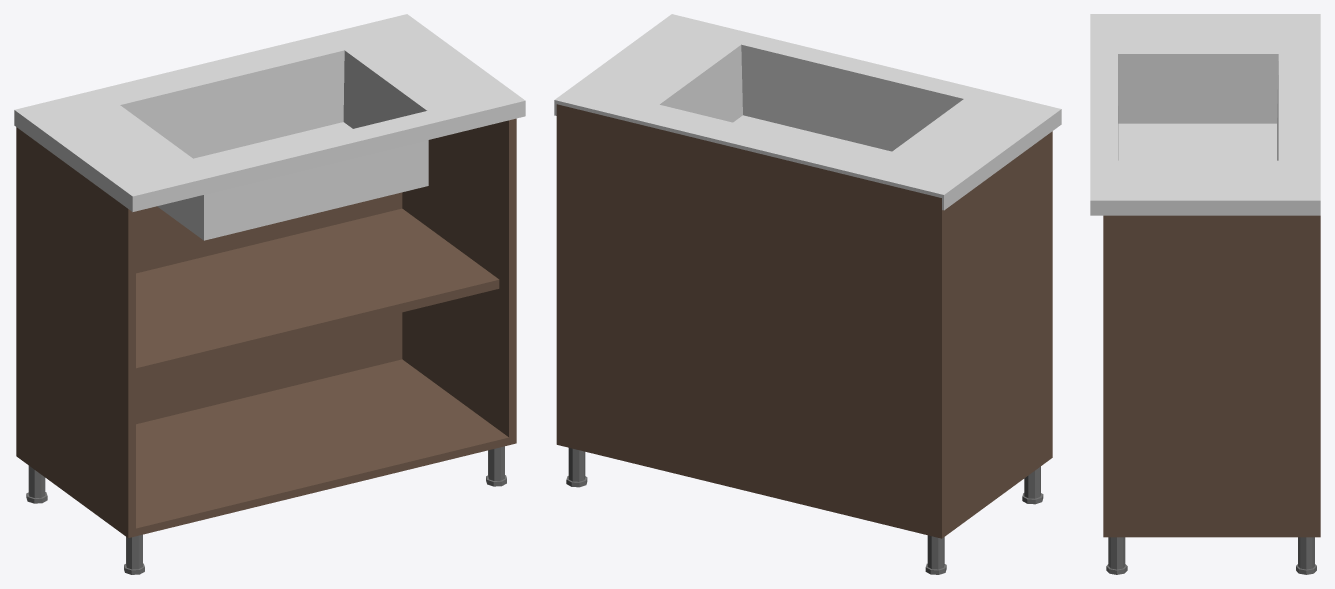
The model's file is Bathroom_C2_06.fbx.
The picture shows the model from 3 angles, left to right: view 1: azimuth 30°, elevation 25°; view 2: azimuth 150°, elevation 25°; view 3: azimuth 270°, elevation 25°; orthographic projection. The views are drawn at different scales.
Visible parts, largest first — view 1: Bathroom_C2_06; view 2: Bathroom_C2_06; view 3: Bathroom_C2_06.
Part boxes in pixels (<box>): Bathroom_C2_06: <box>14,14,525,574</box>; Bathroom_C2_06: <box>554,14,1061,574</box>; Bathroom_C2_06: <box>1090,14,1320,574</box>.
Size of the model in its own units: 91 by 85.82 by 47.51.
